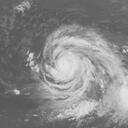cyclone: (23, 23, 127, 118)
